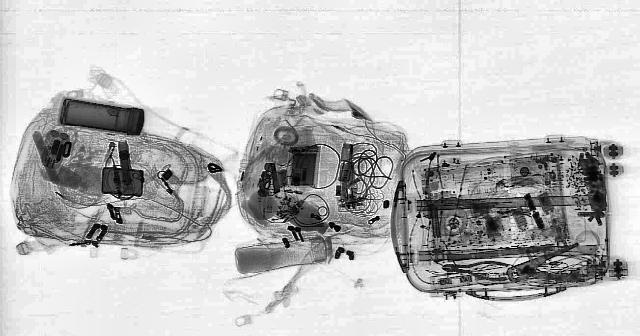Pliers: (496, 243, 604, 291), (438, 258, 514, 282)
